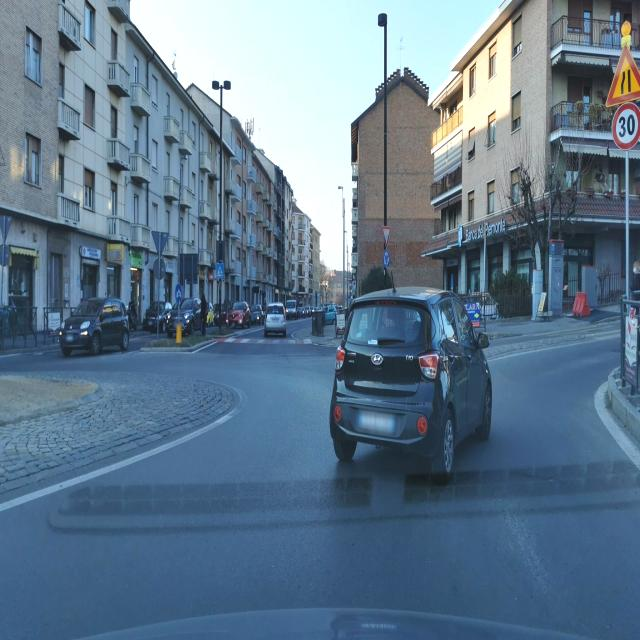car: (329, 283, 493, 483), (59, 295, 130, 358), (166, 296, 203, 336), (142, 300, 173, 334), (263, 302, 287, 338), (227, 301, 251, 328), (211, 302, 229, 326), (250, 303, 264, 325), (323, 304, 338, 324), (285, 300, 298, 319), (303, 304, 312, 317)
